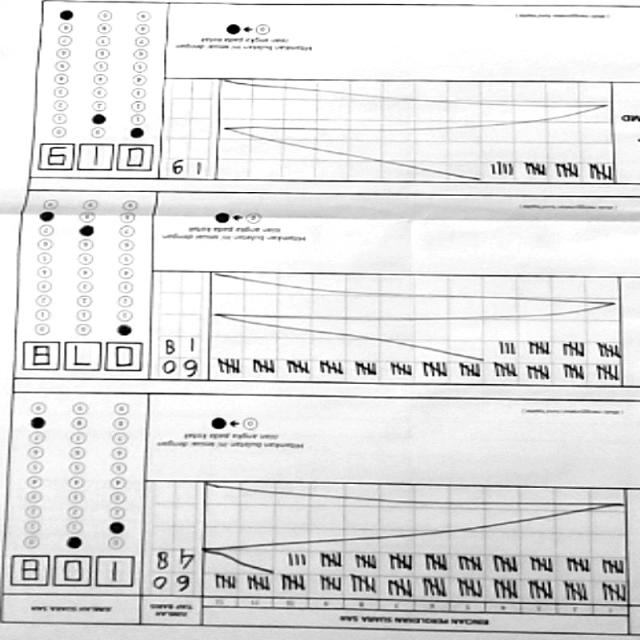Suara: (5, 552, 141, 595), (34, 137, 170, 180), (15, 338, 151, 380)
